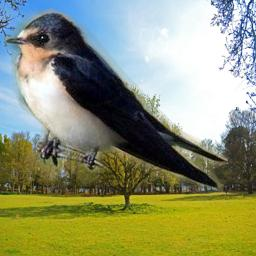Swallow: (3, 8, 228, 196)
